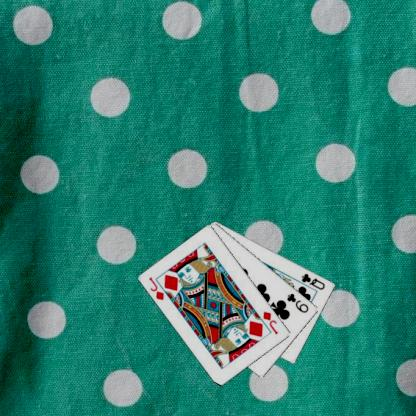9C: (284, 290, 310, 314)
JD: (260, 308, 280, 336), (146, 274, 165, 302)
QC: (299, 271, 326, 291)
